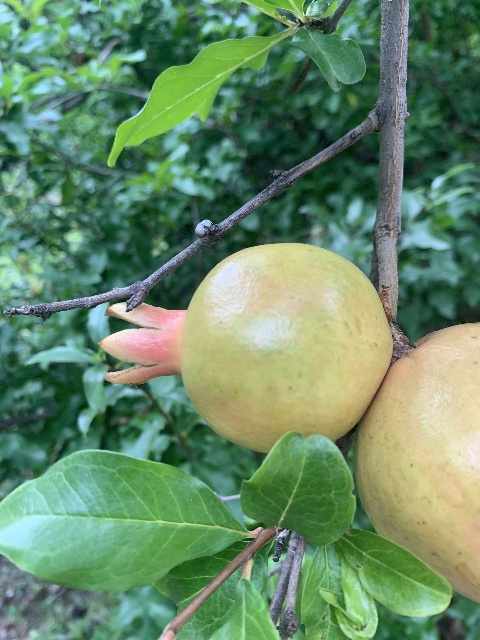mid-growth: (98, 243, 393, 455)
